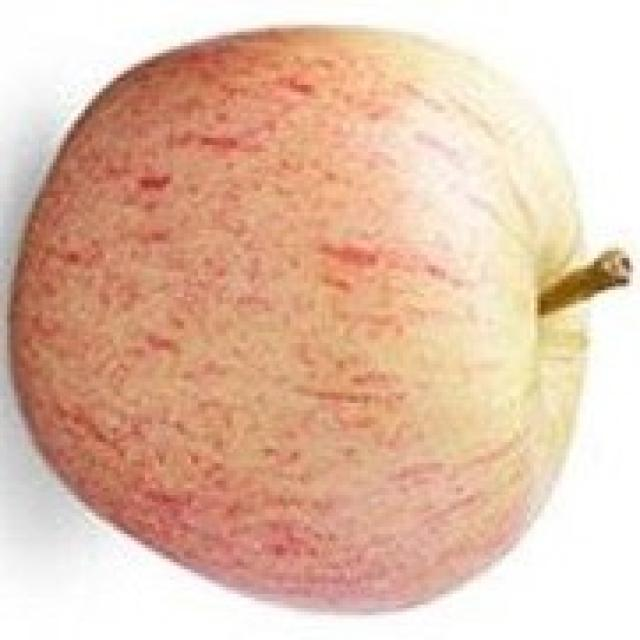75-_ripeness: (12, 21, 584, 614)
